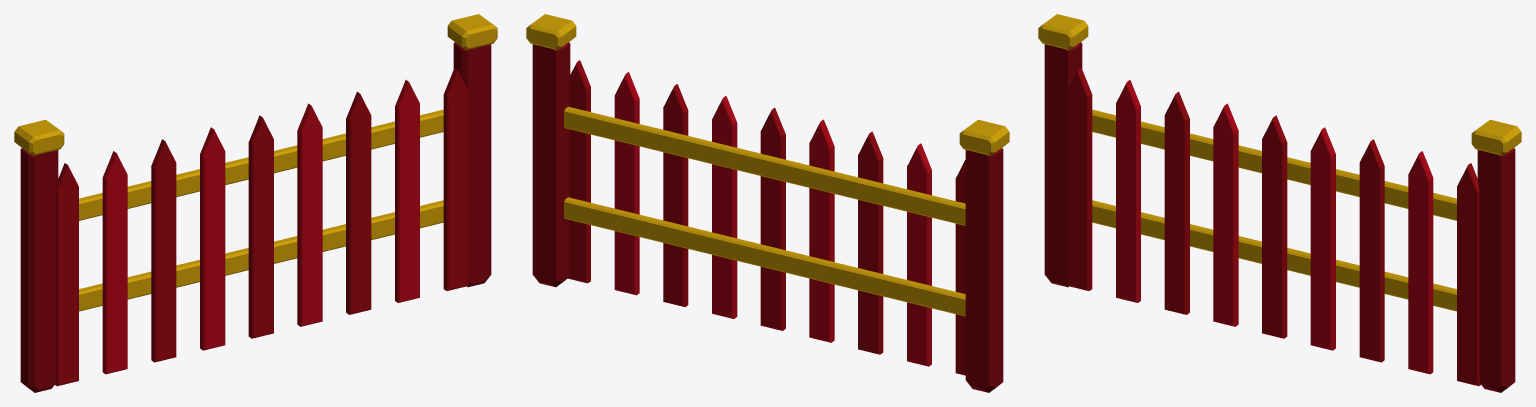
The model's file is fence.glb.
3 views of the same model, side by side, from view 1: azimuth 30°, elevation 25°; view 2: azimuth 150°, elevation 25°; view 3: azimuth 330°, elevation 25° (orthographic).
Visible parts, largest first — view 1: fence_wood; view 2: fence_wood; view 3: fence_wood.
Boxes of the visible parts, x1=… form: fence_wood: x1=14, y1=14, x2=497, y2=392; fence_wood: x1=526, y1=14, x2=1009, y2=392; fence_wood: x1=1038, y1=14, x2=1521, y2=392.
Bounding box in the file's own units: 2.16 × 1.15 × 0.14.
